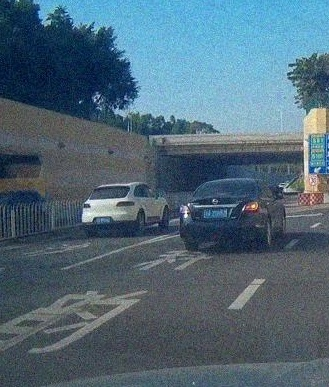L_light: (179, 205, 191, 213), (82, 204, 91, 208)
R_light: (242, 201, 258, 211), (116, 201, 135, 206)
T_light: (221, 182, 232, 185), (107, 187, 115, 189)
day-no: (82, 182, 136, 238)
day-right: (179, 178, 260, 250)
